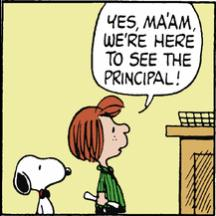snoopy: (11, 154, 71, 216)
